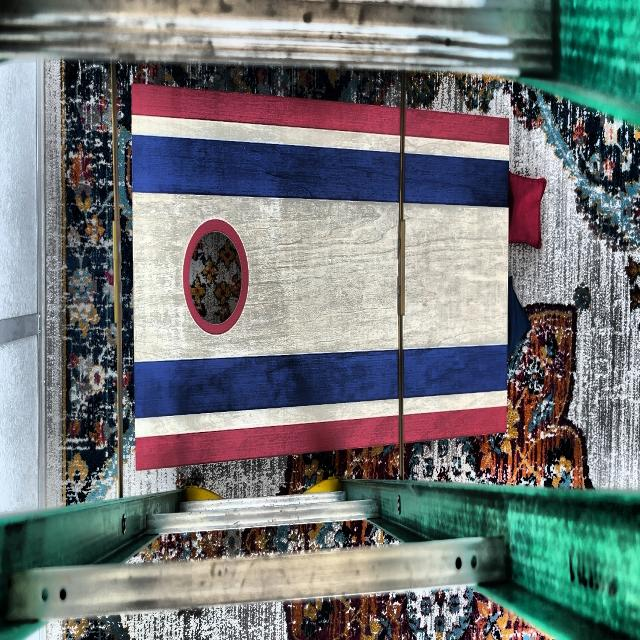blue-bean-bag: (508, 275, 531, 363)
board: (135, 119, 506, 430)
hole: (183, 218, 249, 336)
red-bean-bag: (509, 172, 547, 250)
